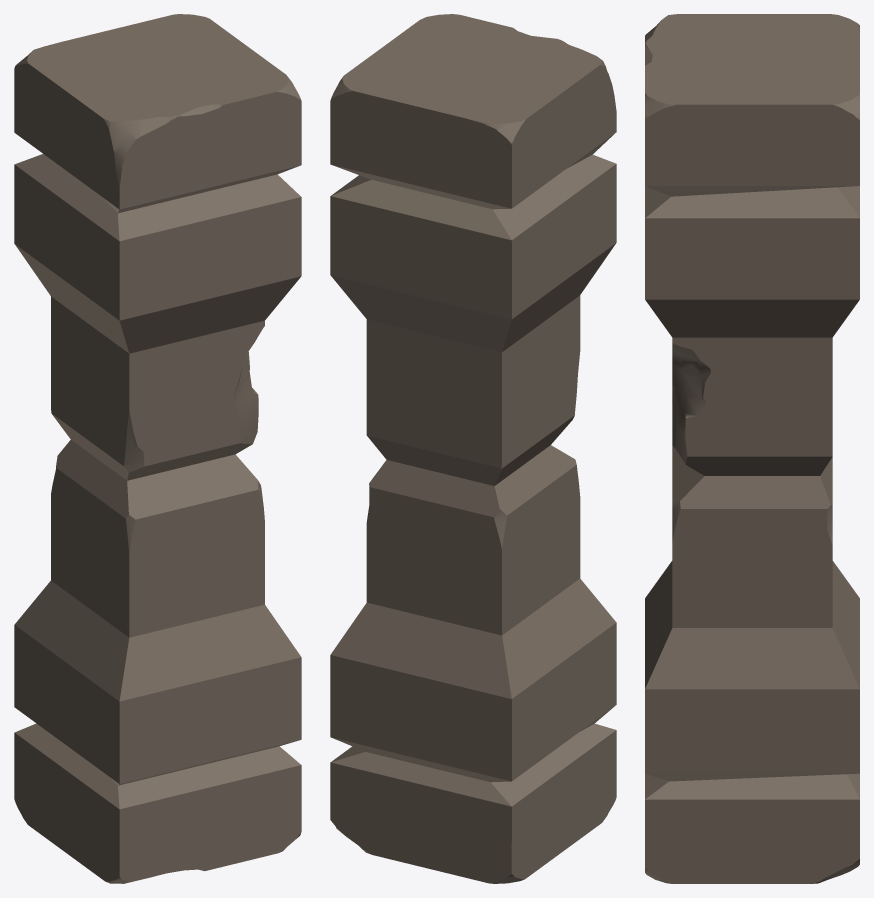
Rendered from collon-2.fbx.
3 renders of one model, left to right at view 1: azimuth 30°, elevation 25°; view 2: azimuth 150°, elevation 25°; view 3: azimuth 270°, elevation 25°, orthographic. The views are drawn at different scales.
Visible parts, largest first — view 1: Cube.004_dmg; view 2: Cube.004_dmg; view 3: Cube.004_dmg.
Part boxes in pixels (box(x1,y1,x2,y2)): Cube.004_dmg: box(14, 14, 301, 883); Cube.004_dmg: box(330, 14, 616, 883); Cube.004_dmg: box(645, 14, 859, 883).
Size of the model in its own units: 100 by 400 by 100.
